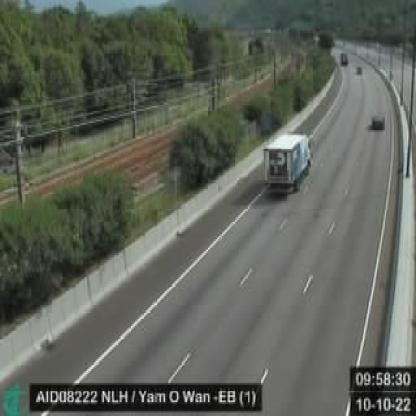Car: (371, 111, 385, 129), (355, 63, 364, 74)
Truck: (265, 130, 314, 194)
